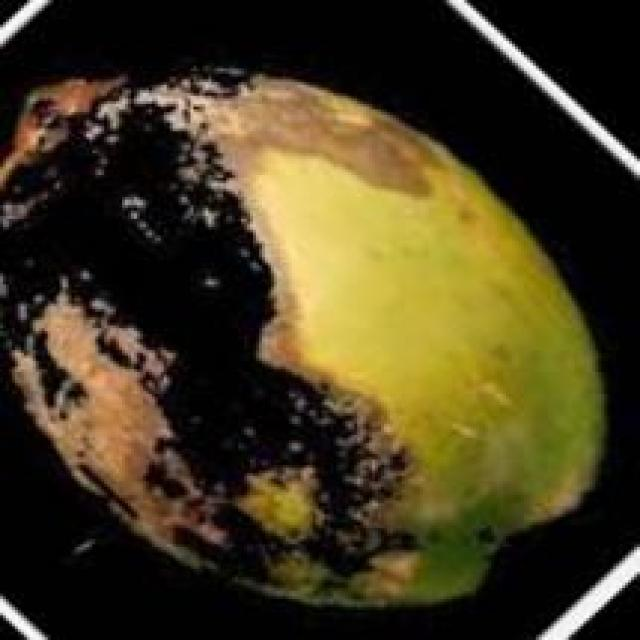damaged: (0, 66, 607, 618)
